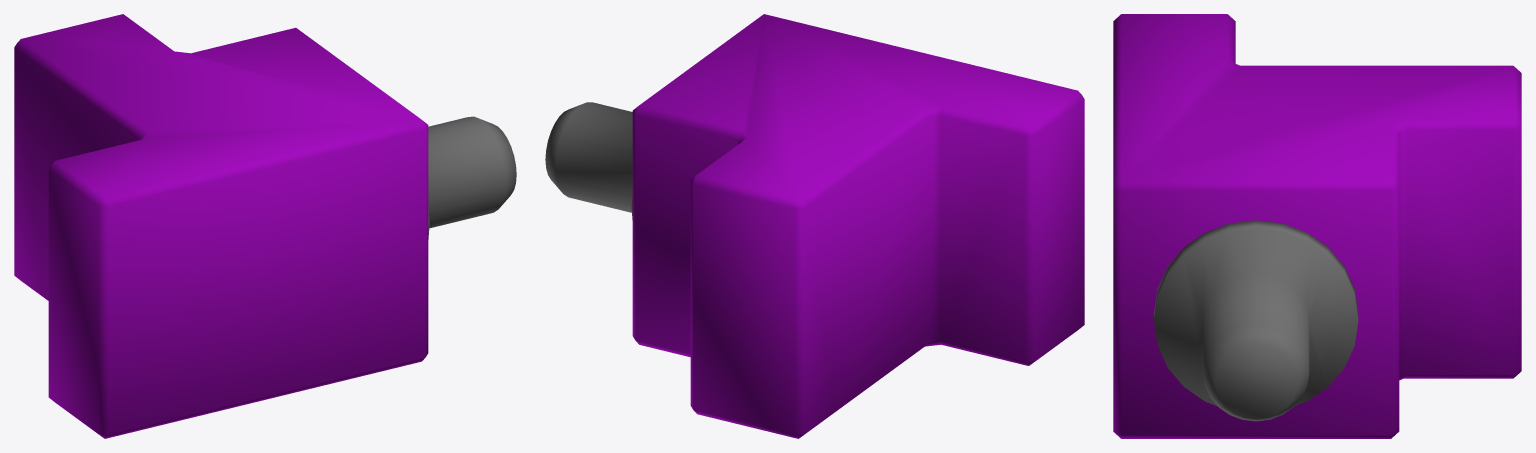
File: sensor_purple.dae
3 views of the same model, side by side, from view 1: azimuth 30°, elevation 25°; view 2: azimuth 150°, elevation 25°; view 3: azimuth 270°, elevation 25° (orthographic). The views are drawn at different scales.
Parts seen in each view (by area): view 1: sensor_peg; view 2: sensor_peg; view 3: sensor_peg.
Part boxes in pixels (bbox=[...]): sensor_peg: bbox=[14, 14, 516, 438]; sensor_peg: bbox=[545, 14, 1084, 438]; sensor_peg: bbox=[1113, 14, 1521, 438].
Bounding box in the file's own units: 0.14 × 0.1 × 0.07.
